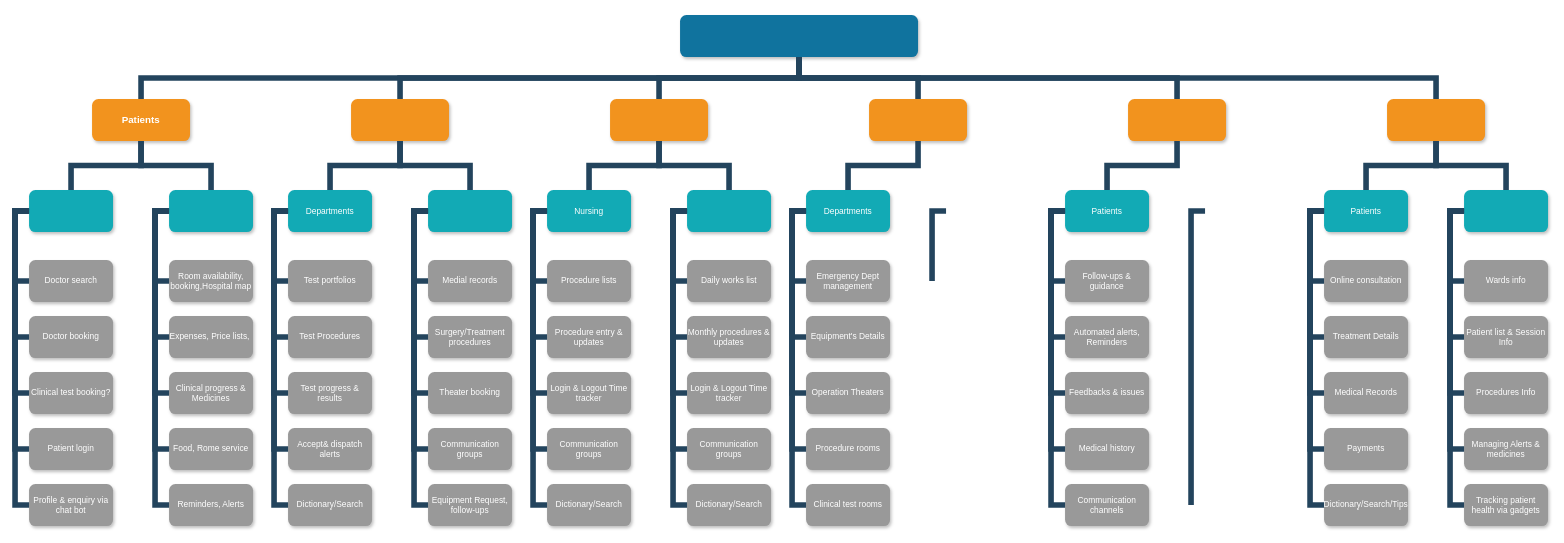
Some shapes in this 1564 by 543 pixel diagram are drawn without their labels. Here are the shapes that lost their labels. From the top down, the centre of each, then its label:
the point at 799,37: Patient Comms Interface
the point at 400,121: Clinical Teams
the point at 659,121: Operational Users
the point at 918,121: Elective Hubs
the point at 1177,121: Elective Recovery
the point at 1436,121: Virtual Wards
the point at 71,212: Booking system
the point at 211,212: Admitted Patients
the point at 470,212: Doctors & assistants
the point at 729,212: Housekeeping
the point at 1506,212: Doctors
